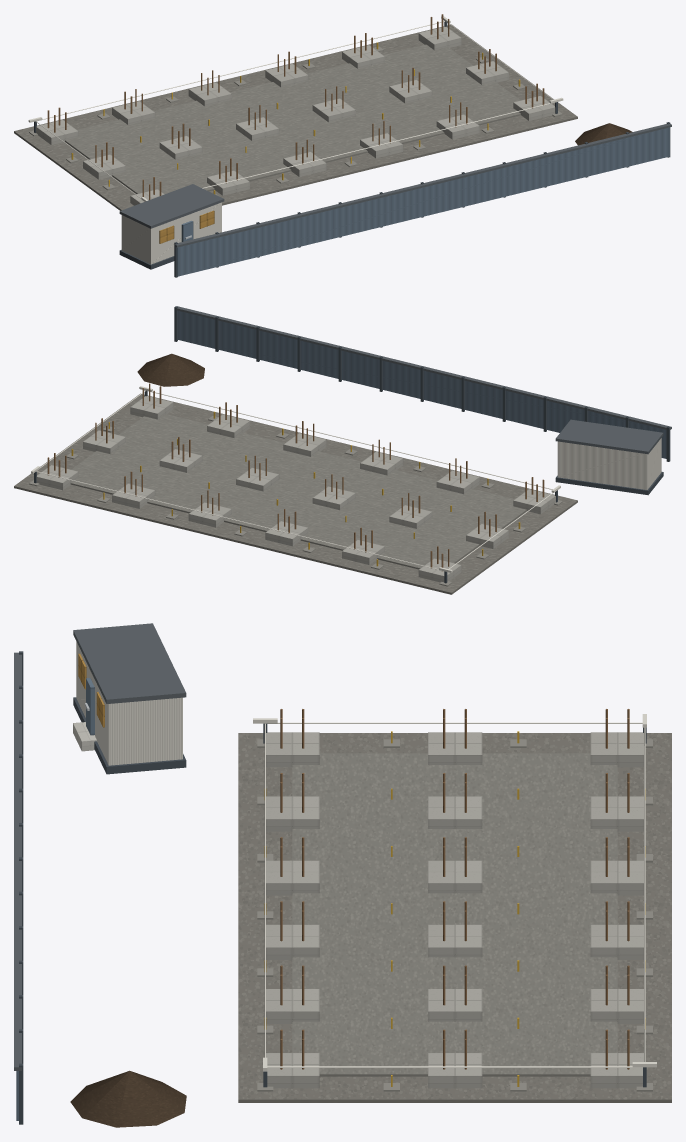
File: el-5-site.glb
3 views of the same model, one above another, from view 1: azimuth 30°, elevation 25°; view 2: azimuth 150°, elevation 25°; view 3: azimuth 270°, elevation 25° (orthographic). The views are drawn at different scales.
Size of the model in its own units: 37.48 by 3.1 by 24.27.
17 materials, 9 textured.
